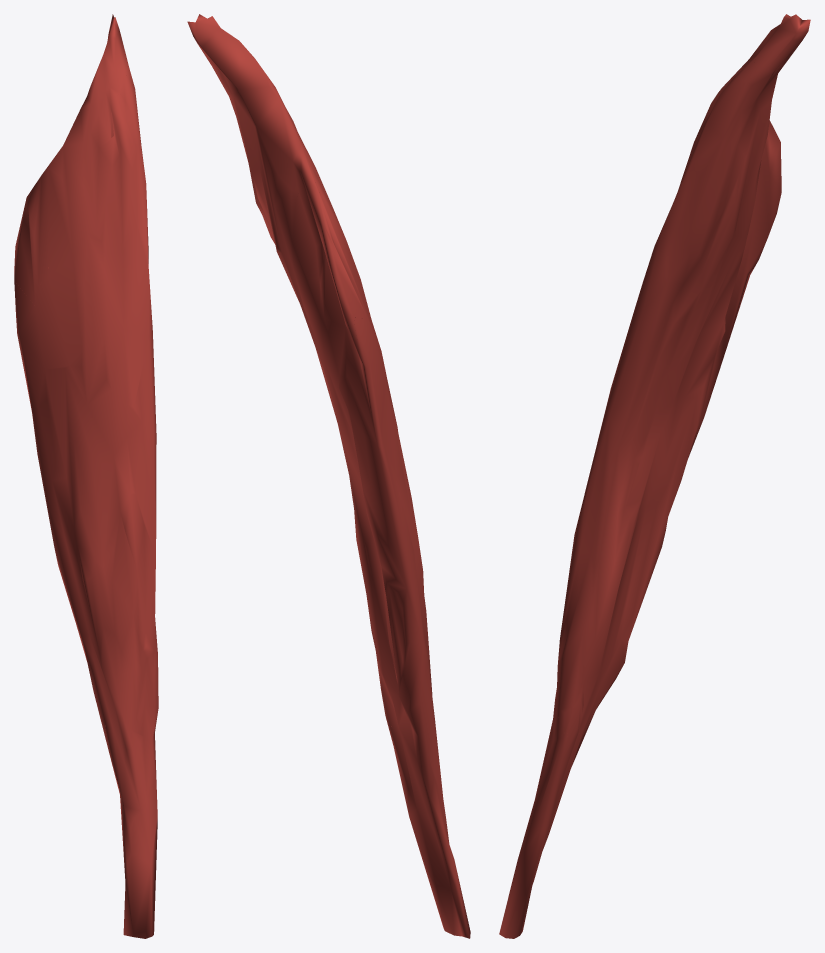
Rendered from musculos-radial-head-of-flexor-digitorum-superficialis-r.glb.
3 renders of one model, left to right at view 1: azimuth 30°, elevation 25°; view 2: azimuth 150°, elevation 25°; view 3: azimuth 270°, elevation 25°, orthographic. The views are drawn at different scales.
Visible parts, largest first — view 1: Radial head of flexor digitorum superficialis.r; view 2: Radial head of flexor digitorum superficialis.r; view 3: Radial head of flexor digitorum superficialis.r.
Boxes of the visible parts, box(x1,y1,x2,y2) form: Radial head of flexor digitorum superficialis.r: box(14, 14, 158, 938); Radial head of flexor digitorum superficialis.r: box(187, 14, 470, 938); Radial head of flexor digitorum superficialis.r: box(499, 14, 810, 938).
Bounding box in the file's own units: 0.0291 × 0.1849 × 0.0537.
